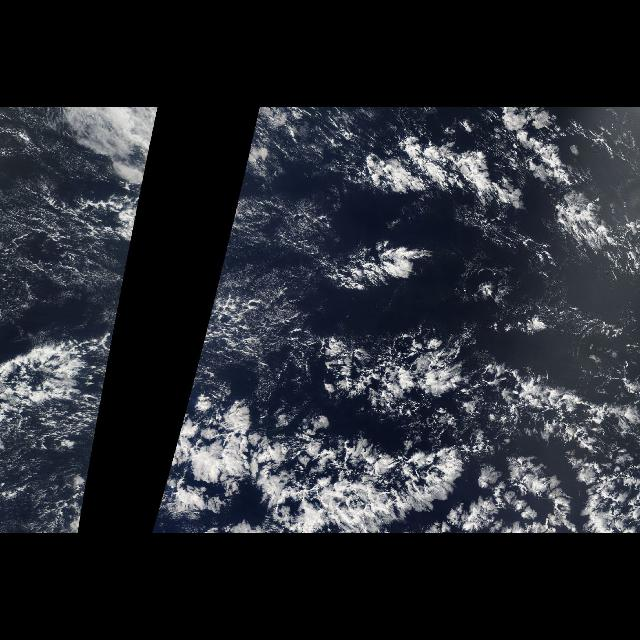Sugar: (153, 374, 320, 530)
